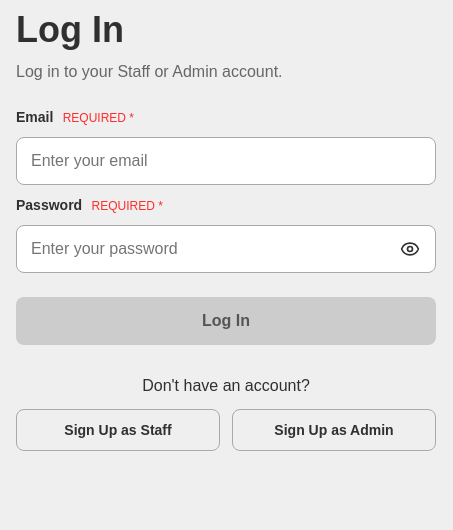
Scenario: Login › submits credentials and shows successful login
Type "staff.test@example.com" into the field labelled "Email". click: (226, 161)
box: [16,137,436,185]
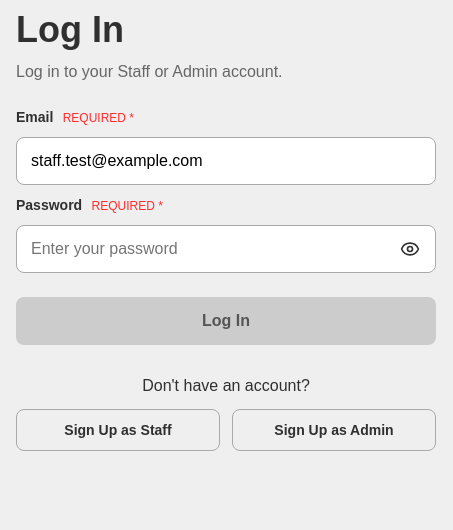
Type "LocalTestPass123!" into the password field labelled "Password". click: (226, 249)
box: [16,225,436,273]
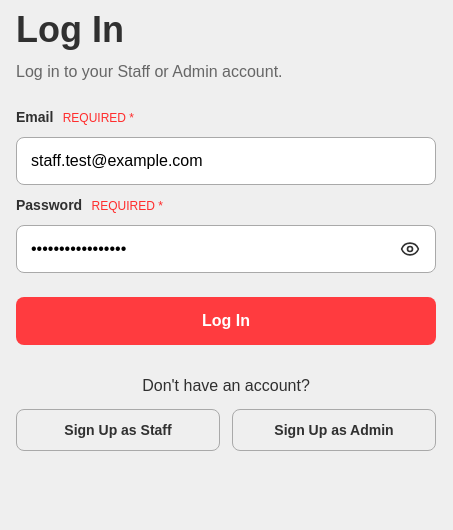
Click the button "Log In". click: click(226, 321)
box: [16,297,436,345]
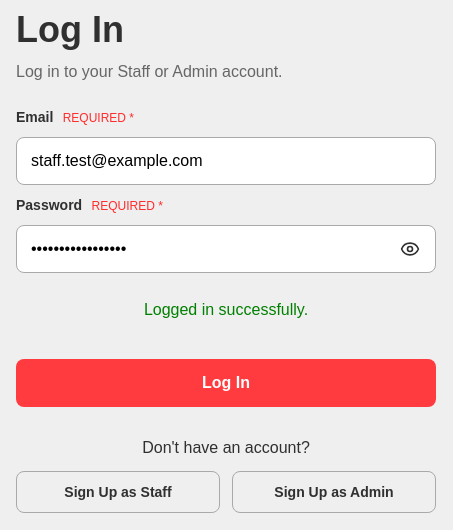
Result: the message reads "Logged in successfully." at [144,301,308,318]
